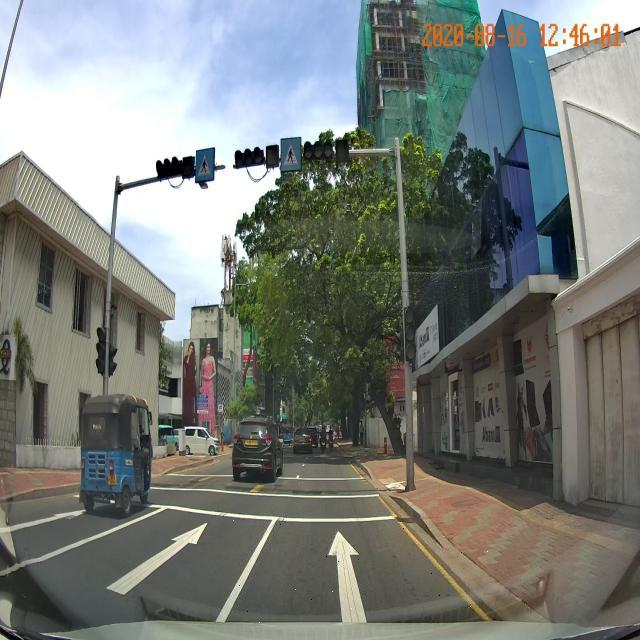forward: (213, 517, 491, 623)
